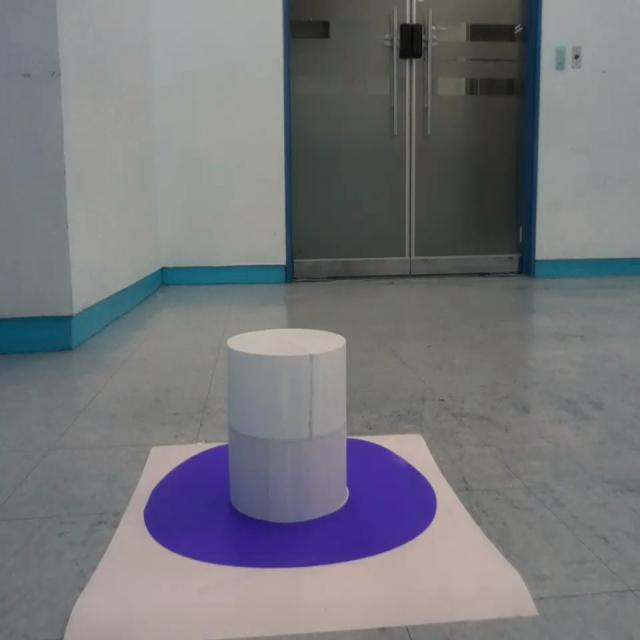cylinder: (225, 327, 350, 522)
